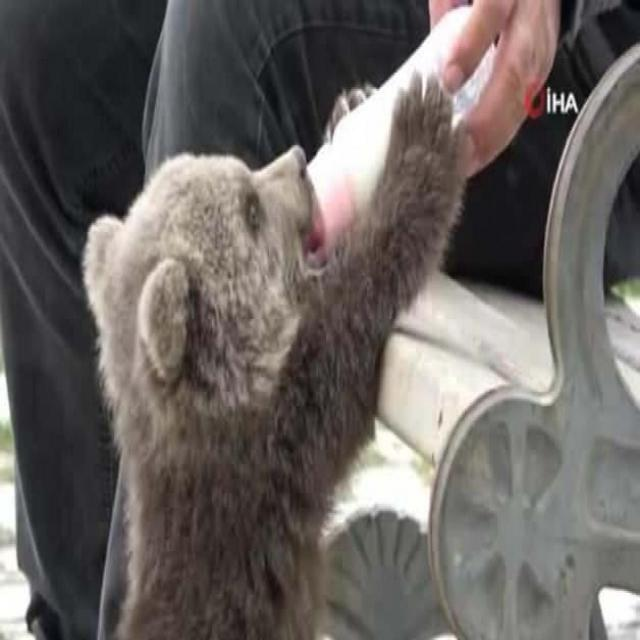Bear: (82, 81, 466, 640)
